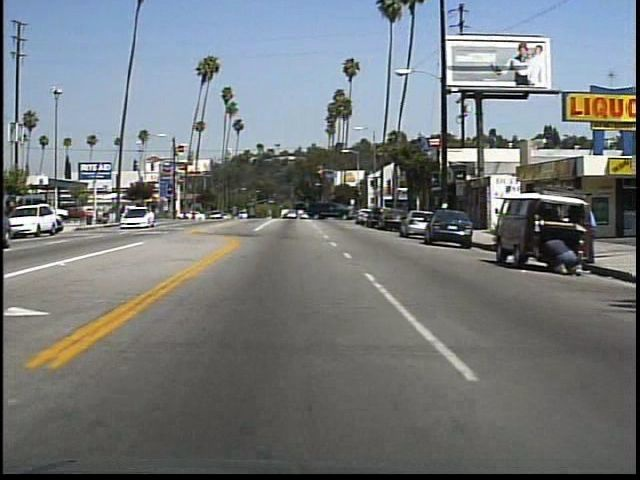person: (540, 232, 582, 279)
